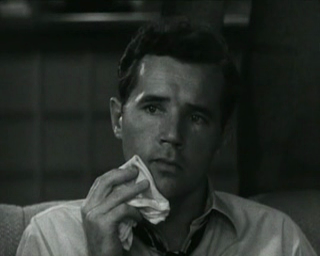cu: (1, 1, 320, 256)
face: (126, 61, 221, 201)
person: (14, 14, 317, 256)
